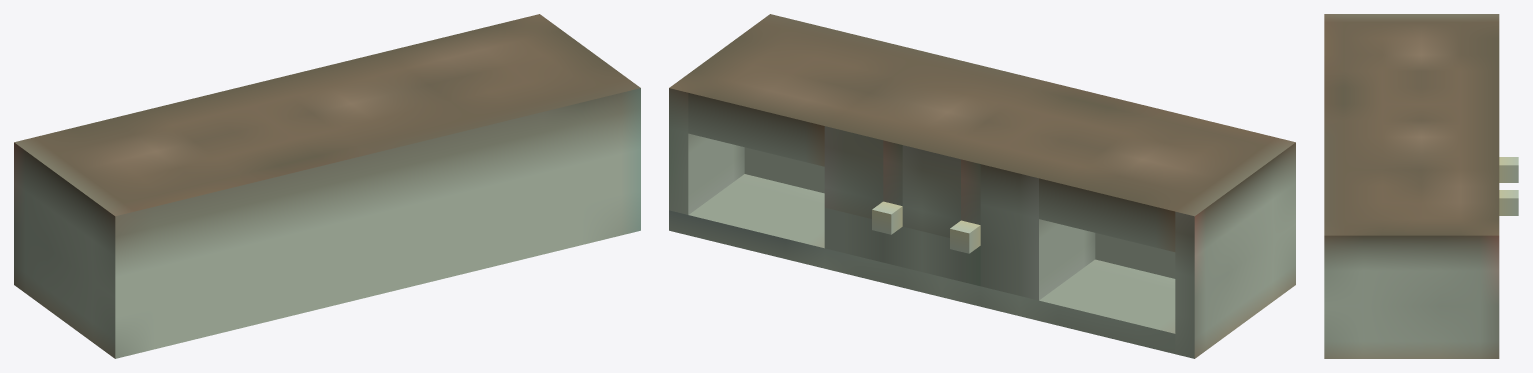
The model's file is CabinetDarkGreyWide_00.obj.
3 views of the same model, side by side, from view 1: azimuth 30°, elevation 25°; view 2: azimuth 150°, elevation 25°; view 3: azimuth 270°, elevation 25° (orthographic). The views are drawn at different scales.
Visible parts, largest first — view 1: CabinetDarkGreyWide_00; view 2: CabinetDarkGreyWide_00; view 3: CabinetDarkGreyWide_00.
Part boxes in pixels (bbox=[...]): CabinetDarkGreyWide_00: bbox=[14, 14, 640, 358]; CabinetDarkGreyWide_00: bbox=[669, 14, 1295, 358]; CabinetDarkGreyWide_00: bbox=[1324, 14, 1518, 358].
Bounding box in the file's own units: 1.35 × 0.35 × 0.5.
